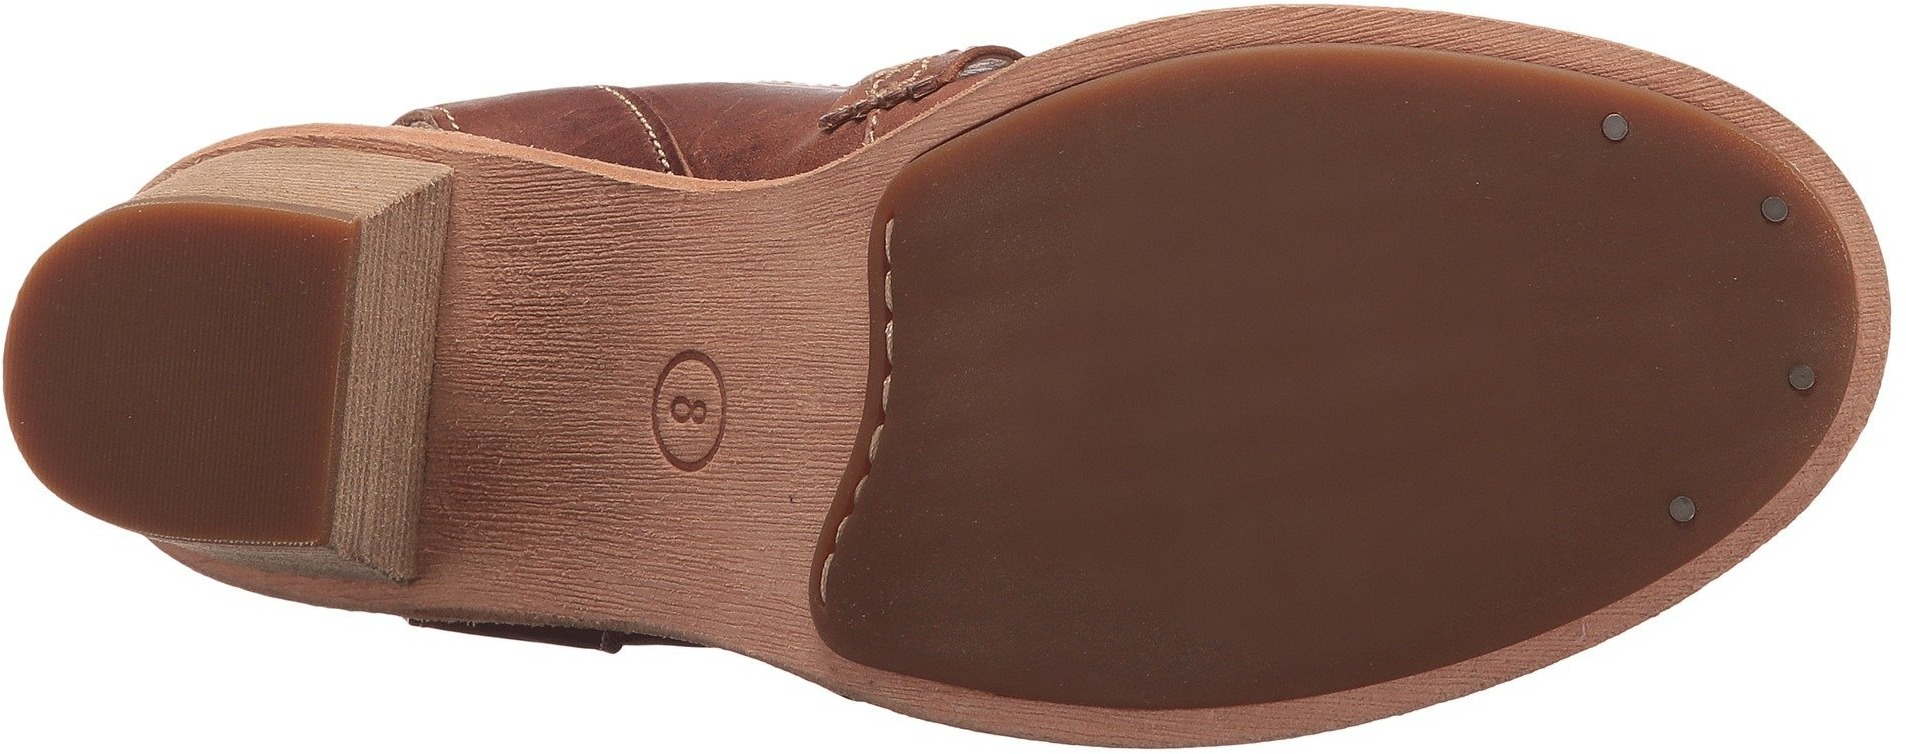other: (1233, 81, 1589, 452), (937, 163, 1219, 465), (90, 246, 320, 525), (1047, 468, 1318, 694), (1321, 463, 1509, 646), (865, 489, 1041, 662), (1606, 201, 1763, 387)
